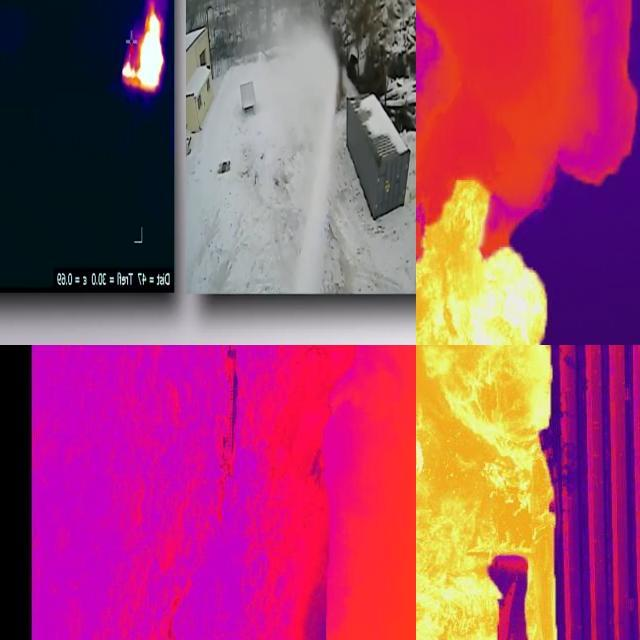fire: (417, 180, 557, 640), (122, 11, 166, 95)
